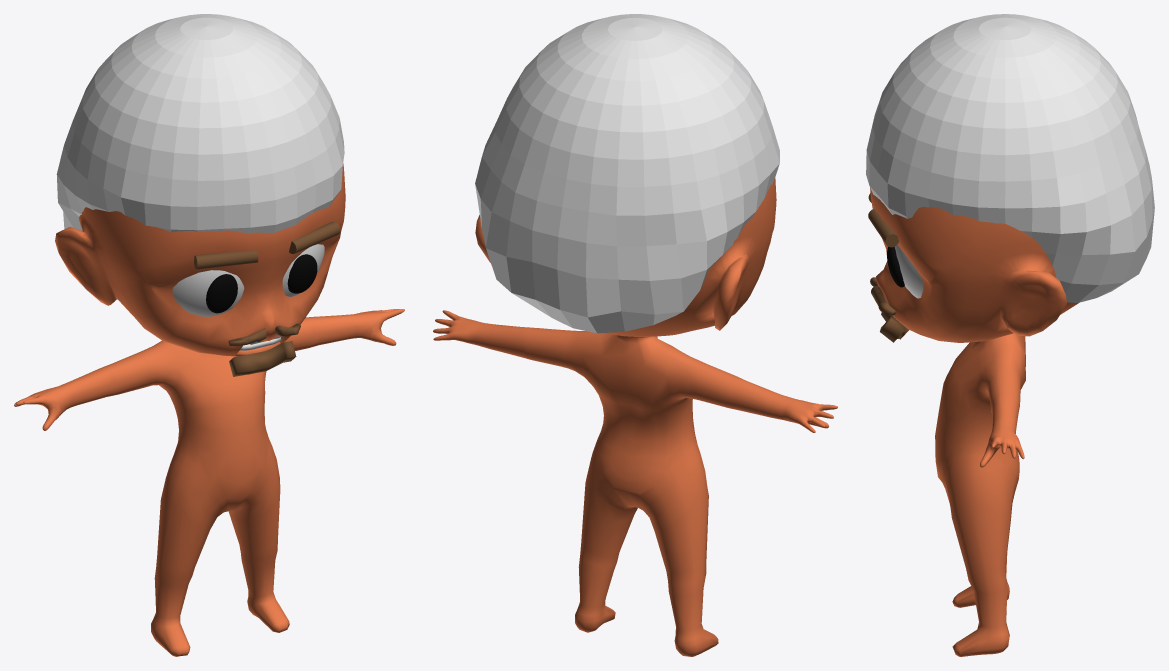
Rendered from character.glb.
3 views of the same model, side by side, from view 1: azimuth 30°, elevation 25°; view 2: azimuth 150°, elevation 25°; view 3: azimuth 270°, elevation 25° (orthographic). The views are drawn at different scales.
Visible parts, largest first — view 1: Retopology, Sphere.003, Sphere, Cube, Sphere.004, Cylinder.001, Sphere.002, Cylinder; view 2: Sphere.003, Retopology; view 3: Sphere.003, Retopology, Sphere.001, Cylinder, Cube.
Part boxes in pixels (x1,y1,x2,y2): Retopology: (14,163,404,656); Sphere.003: (56,14,344,233); Sphere: (172,270,244,316); Cube: (229,341,296,376); Sphere.004: (206,274,237,313); Cylinder.001: (194,250,258,269); Sphere.002: (287,254,317,293); Cylinder: (289,221,340,253); Sphere.003: (475,14,779,333); Retopology: (433,177,837,656); Sphere.003: (866,14,1154,302); Retopology: (870,187,1079,656); Sphere.001: (894,245,923,298); Cylinder: (868,208,898,247); Cube: (880,312,908,342).
Bounding box in the file's own units: 1.18 × 1.76 × 0.7633.
